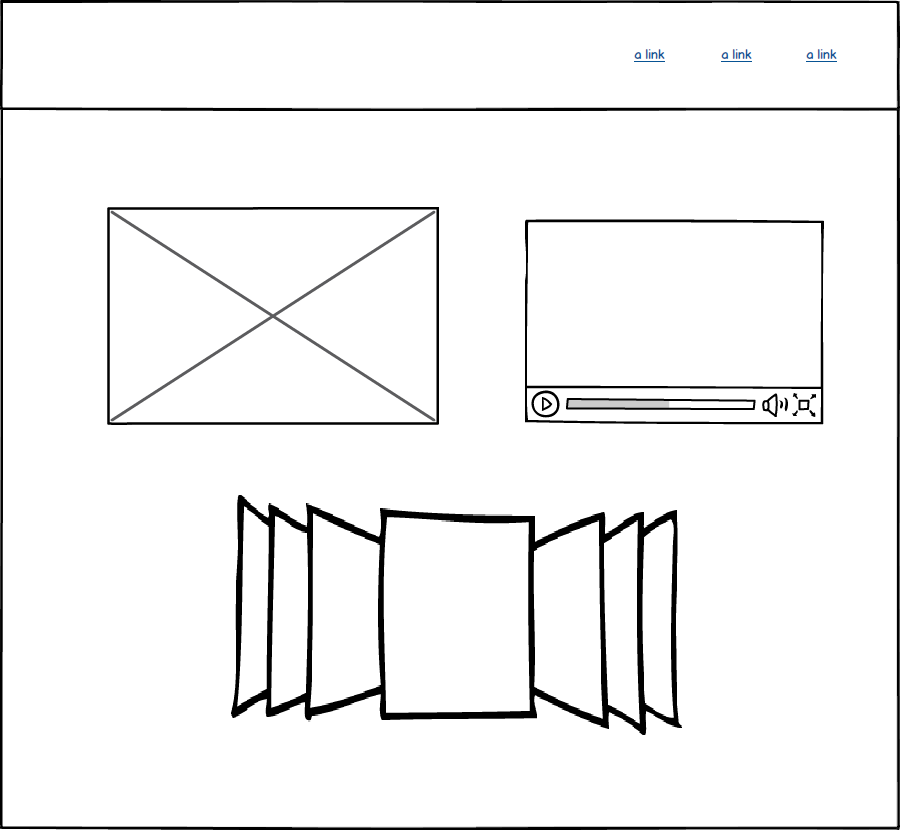image: (96, 202, 451, 430)
navlink: (713, 39, 761, 71), (798, 42, 847, 71), (628, 42, 674, 71)
slideshow: (215, 480, 698, 749)
video: (517, 207, 830, 430)
